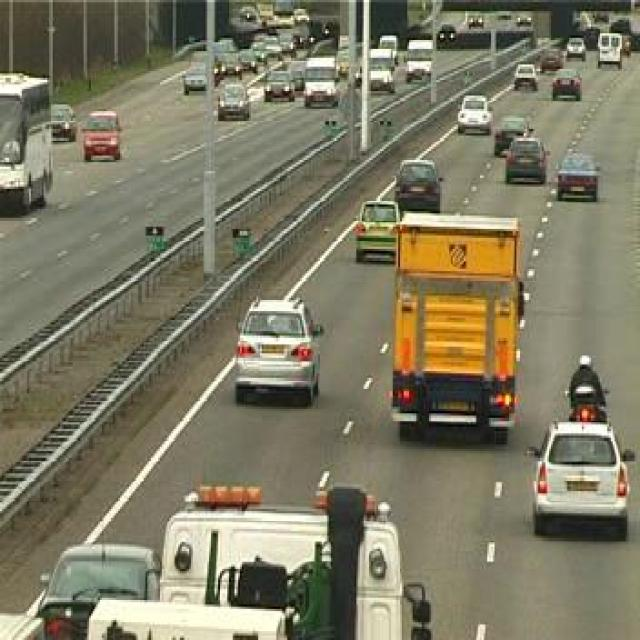other: (383, 205, 523, 428)
